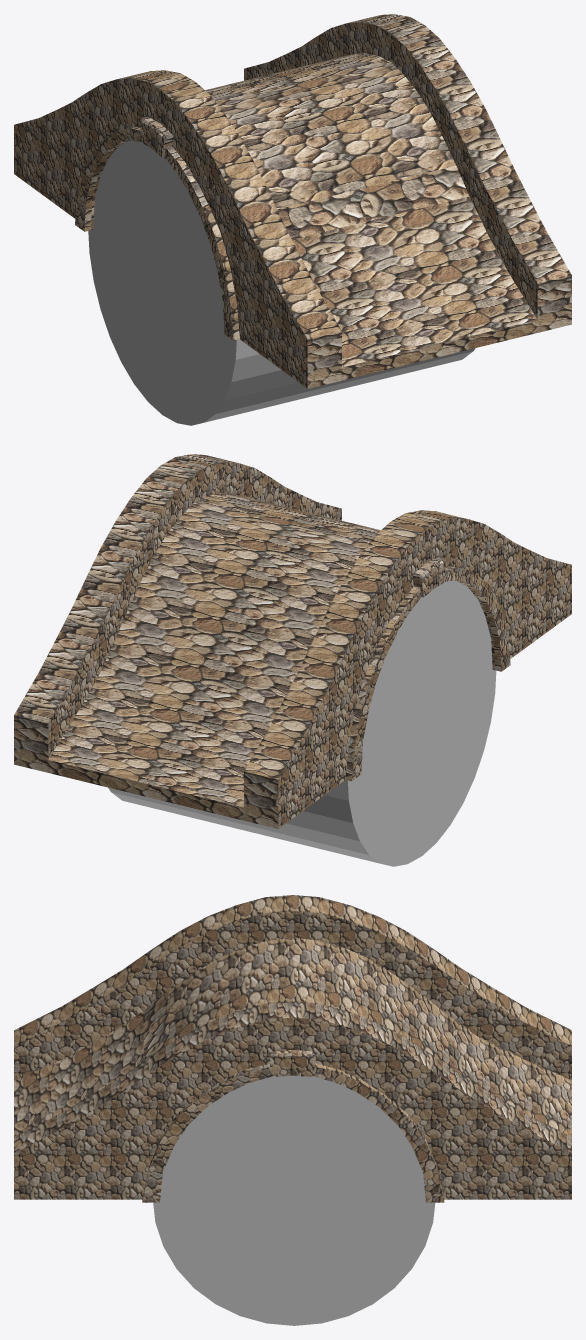
The model's file is bridge.obj.
3 renders of one model, top to bottom at view 1: azimuth 30°, elevation 25°; view 2: azimuth 150°, elevation 25°; view 3: azimuth 270°, elevation 25°, orthographic. The views are drawn at different scales.
Parts seen in each view (by area): view 1: Cube, Cylinder; view 2: Cube, Cylinder; view 3: Cube, Cylinder.
Part boxes in pixels (bbox=[...]): Cube: bbox=[14, 14, 571, 388]; Cylinder: bbox=[88, 140, 475, 425]; Cube: bbox=[14, 454, 571, 828]; Cylinder: bbox=[108, 580, 496, 866]; Cube: bbox=[14, 895, 571, 1202]; Cylinder: bbox=[153, 1075, 435, 1325].
Bounding box in the file's own units: 7.6 × 8.41 × 13.72.
2 materials, 1 textured.
